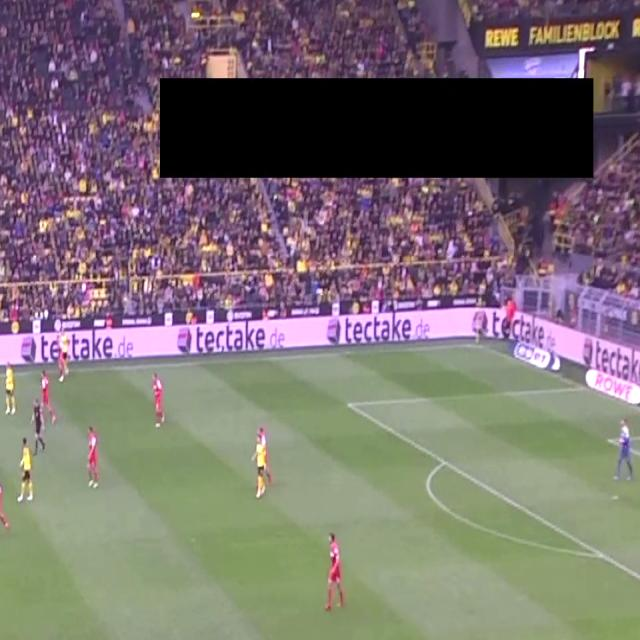goalkeeper: (605, 416, 640, 491)
referee: (30, 394, 49, 456)
soccer-player: (318, 528, 354, 620), (242, 417, 276, 506), (79, 420, 107, 494), (12, 438, 39, 512), (145, 368, 172, 432), (36, 362, 59, 428), (52, 330, 76, 388), (0, 360, 20, 420), (0, 469, 15, 546)
